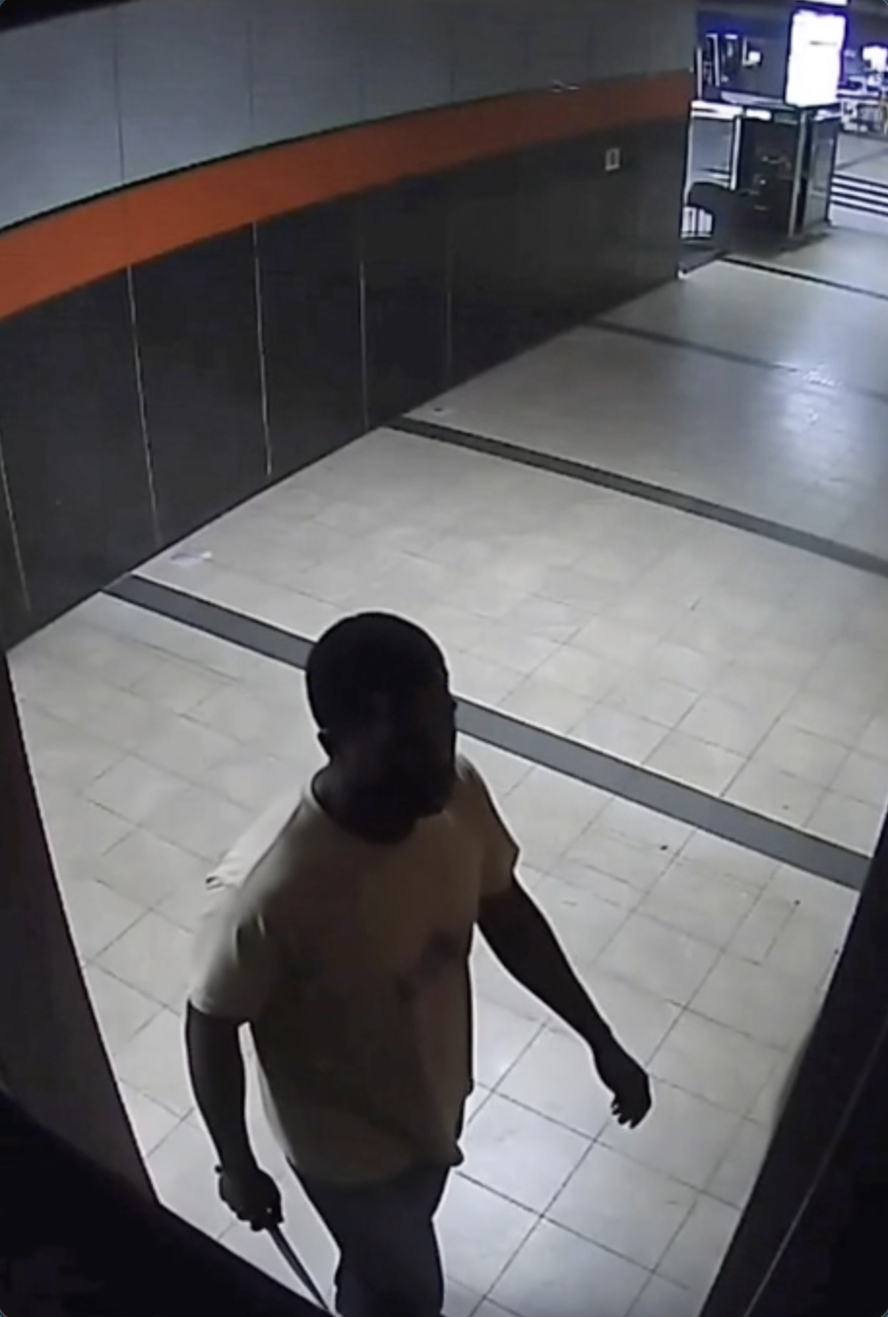Heavy Gun: (173, 605, 661, 1317)
Knife: (204, 1162, 348, 1317)
